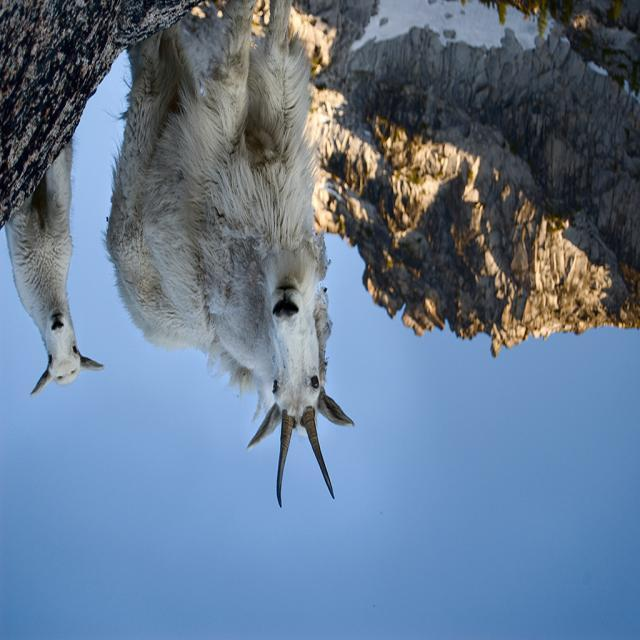Goat: (104, 2, 355, 511)
